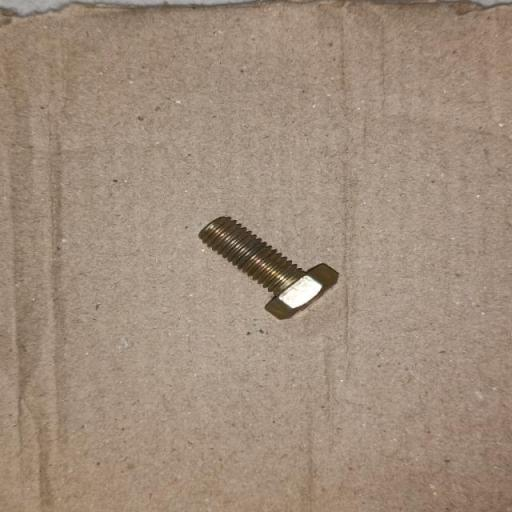Bolt: (198, 215, 340, 321)
